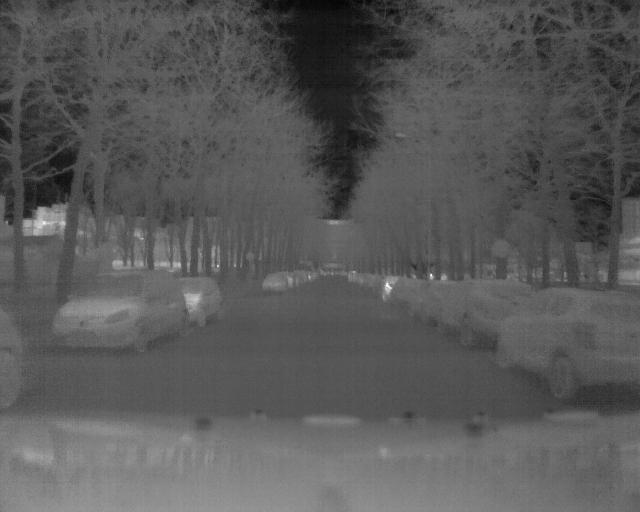car: (497, 288, 640, 399), (50, 267, 186, 356), (437, 280, 534, 345), (260, 271, 289, 294)
